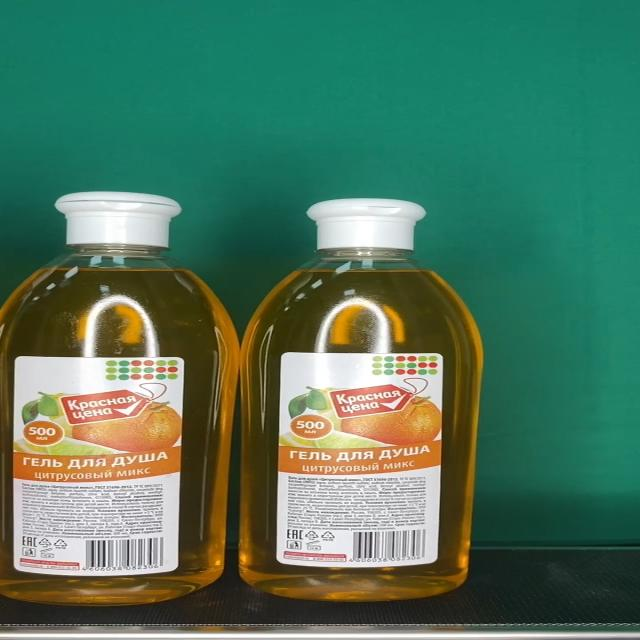Bottle: (0, 190, 239, 606), (238, 197, 484, 601)
Cap: (57, 191, 182, 247), (307, 198, 429, 250)
